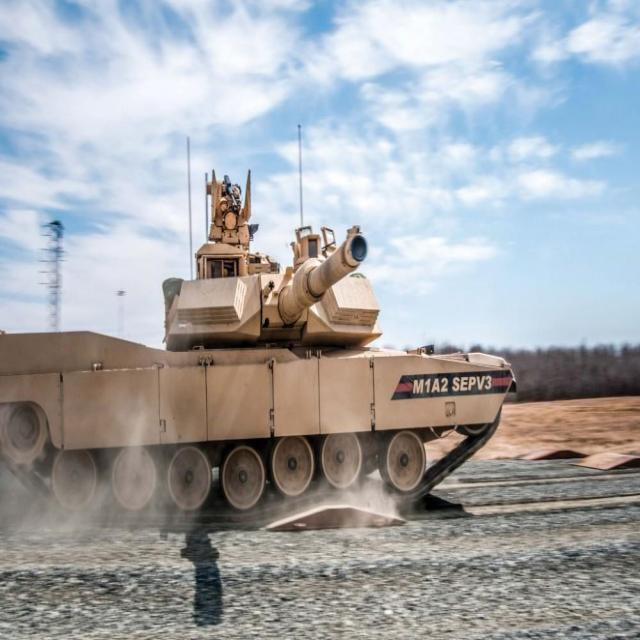MIL_MBT: (1, 164, 523, 525)
